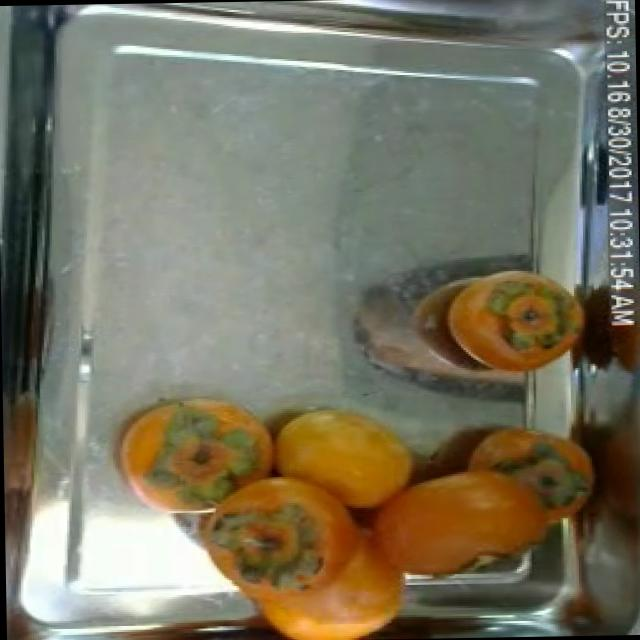Fruit: (108, 382, 291, 520), (431, 257, 601, 386)
